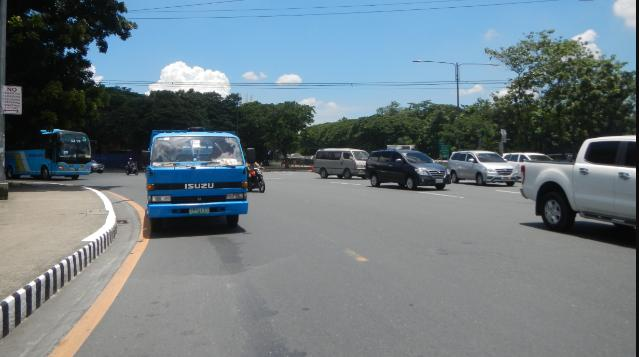bus: (6, 128, 91, 183)
car: (366, 149, 446, 191), (448, 150, 520, 186), (503, 152, 562, 182), (87, 159, 104, 174)
motorcycle: (247, 161, 266, 193), (125, 157, 140, 177)
pickup-truck: (518, 135, 638, 244)
truck: (140, 126, 256, 231)
van: (312, 146, 370, 179)
